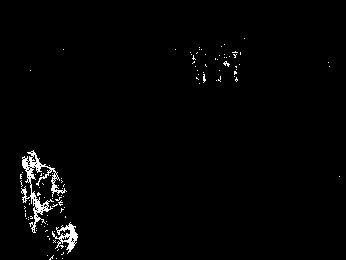person: (20, 150, 77, 258)
